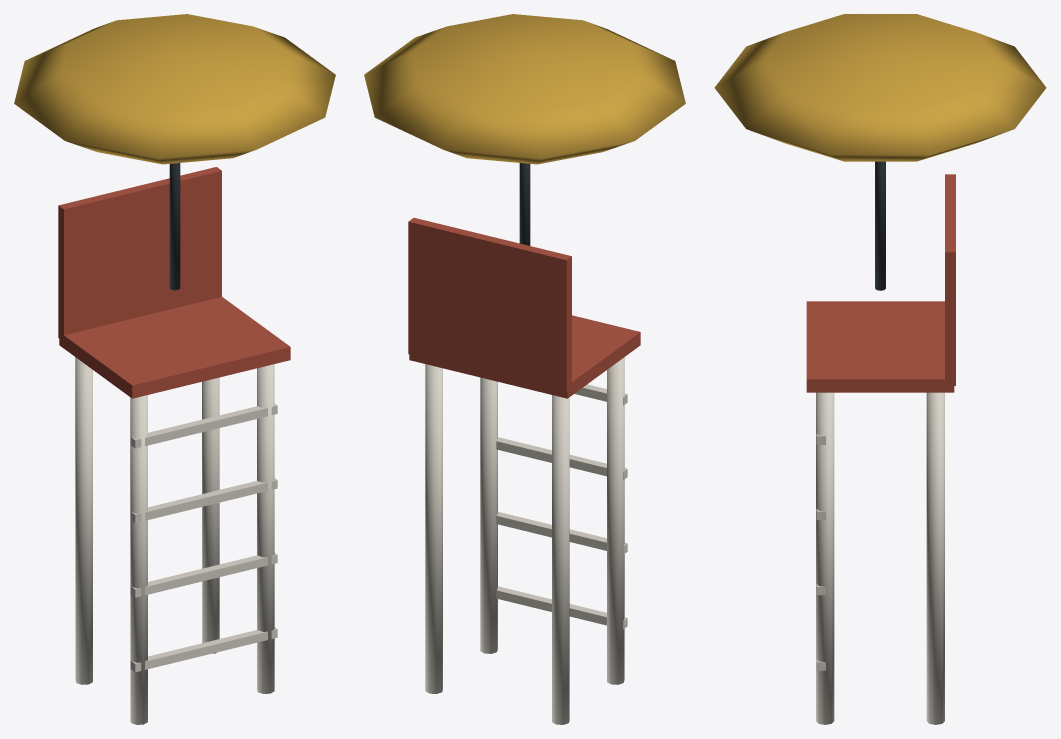
Rendered from lifeguard_chair.glb.
The picture shows the model from 3 angles, left to right: view 1: azimuth 30°, elevation 25°; view 2: azimuth 150°, elevation 25°; view 3: azimuth 270°, elevation 25°; orthographic projection.
Parts seen in each view (by area): view 1: lifeguard_chair; view 2: lifeguard_chair; view 3: lifeguard_chair.
Boxes of the visible parts, x1,y1,x2,y2 form: lifeguard_chair: (14,14,335,724); lifeguard_chair: (364,14,685,724); lifeguard_chair: (714,14,1046,724).
Bounding box in the file's own units: 1.71 × 3.82 × 1.8.
